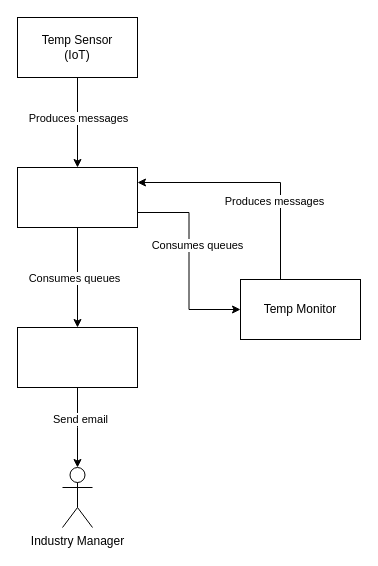
Image size: 378x566. Some labels were removed from this diagram. The shapes that lost their labels are listed below. From the top down, each one's centre as x and y in pixels, then its label:
At pixel 77 197: "ActiveMQ".
At pixel 77 357: "Notifier".
